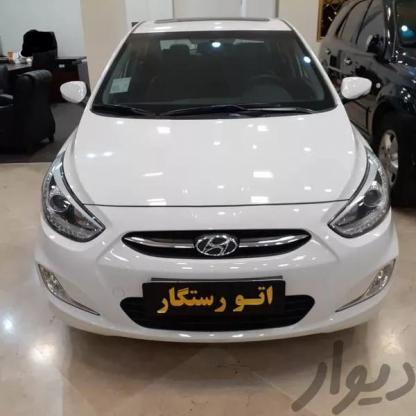Car: (16, 5, 416, 357), (317, 7, 416, 176)
